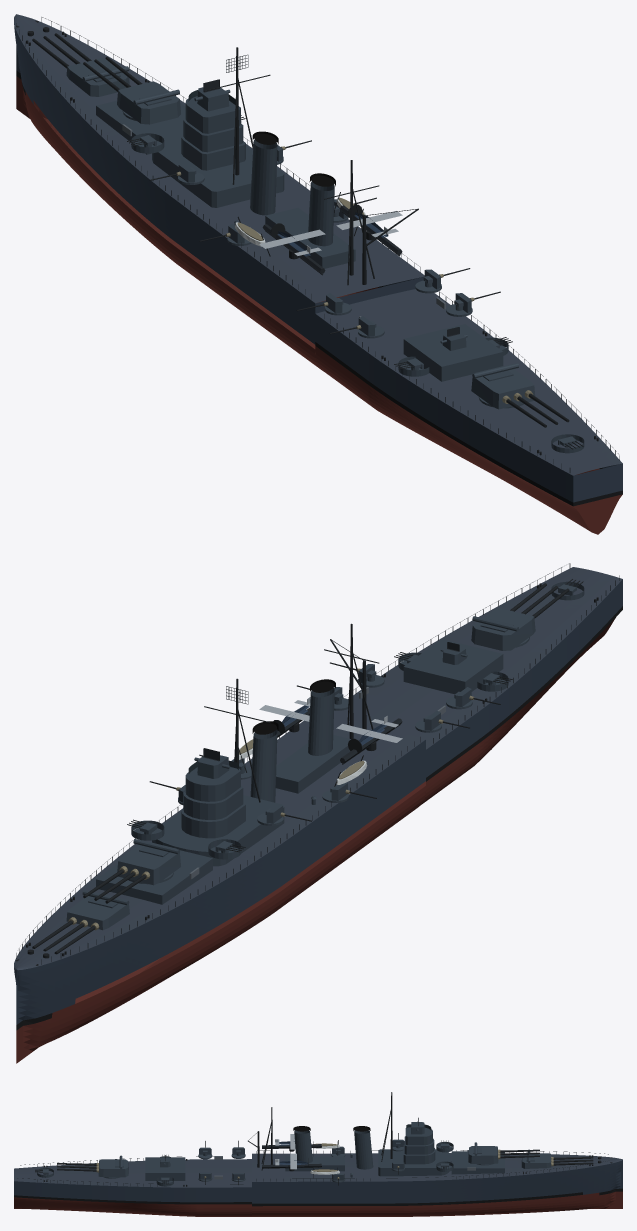
Rendered from northampton.glb.
The picture shows the model from 3 angles, top to bottom: view 1: azimuth 30°, elevation 25°; view 2: azimuth 150°, elevation 25°; view 3: azimuth 270°, elevation 25°; orthographic projection. The views are drawn at different scales.
Visible parts, largest first — view 1: Hull, Turret2, Turret3, Turret1, Director; view 2: Hull, Turret3, Turret2, Turret1, Director; view 3: Hull, Turret3, Turret2, Turret1.
Part boxes in pixels (x1,y1,x2,y2): Hull: (14,14,622,534); Turret2: (83,56,180,124); Turret3: (471,363,569,427); Turret1: (32,33,129,96); Director: (194,79,230,111); Hull: (14,563,622,1063); Turret3: (471,583,569,650); Turret2: (83,839,180,903); Turret1: (32,890,129,954); Director: (194,748,230,778); Hull: (14,1092,622,1216); Turret3: (57,1155,128,1178); Turret2: (468,1142,539,1165); Turret1: (521,1149,593,1168).
Bounding box in the file's own units: 32.2 × 38.7 × 183.
